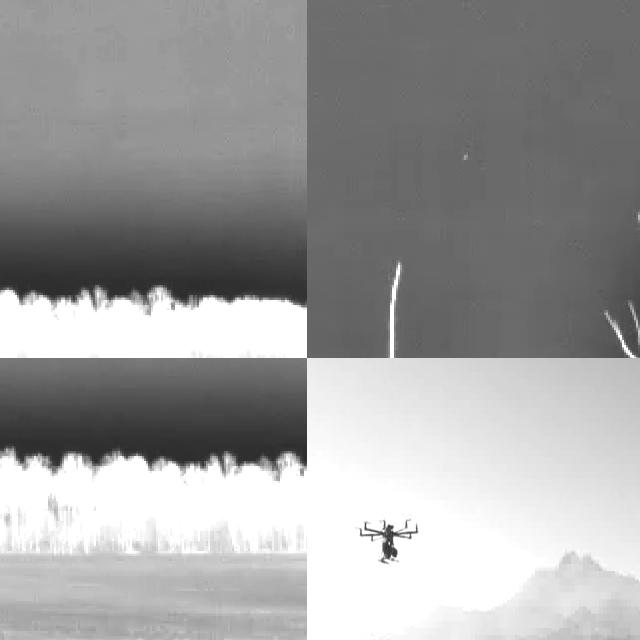0: (452, 144, 472, 171)
drone: (357, 511, 421, 566)
